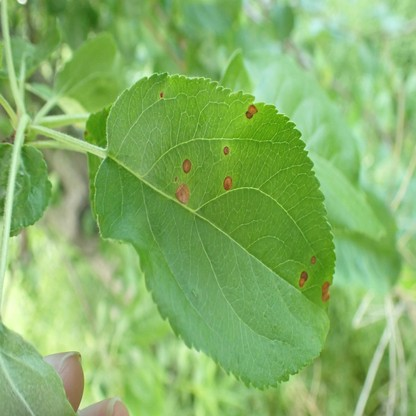frogeye: (176, 185, 189, 203), (246, 104, 258, 118), (299, 271, 308, 288), (322, 282, 329, 303), (223, 177, 233, 191), (182, 159, 191, 174), (224, 146, 230, 154), (312, 256, 317, 264), (160, 92, 163, 98), (175, 177, 178, 182)
powder: (1, 334, 61, 416)
